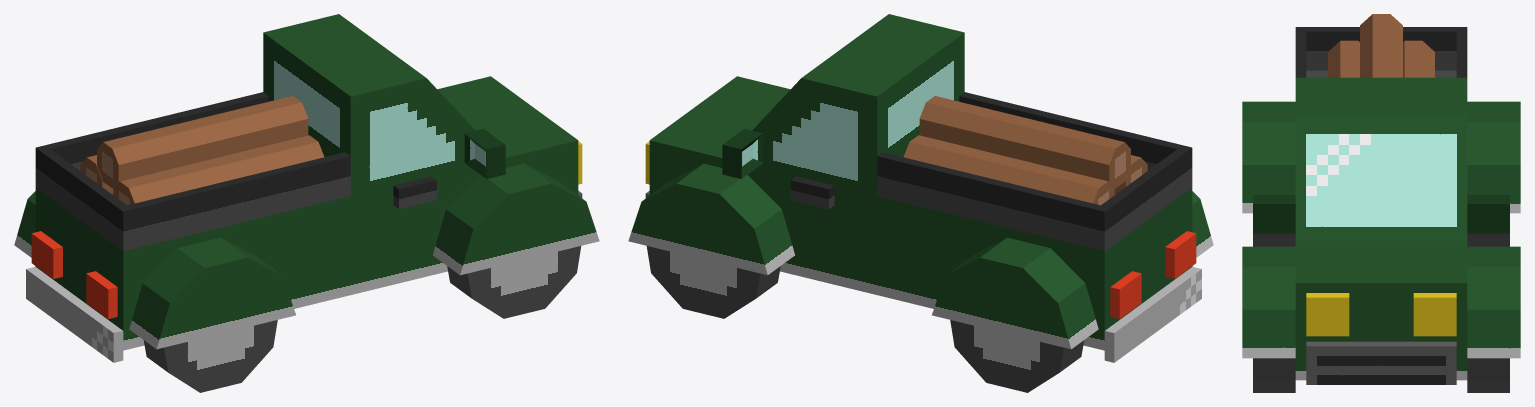
File: Truck.gltf
3 views of the same model, side by side, from view 1: azimuth 30°, elevation 25°; view 2: azimuth 150°, elevation 25°; view 3: azimuth 270°, elevation 25° (orthographic). The views are drawn at different scales.
Parts seen in each view (by area): view 1: cuboid (×9), cylinder (×7); view 2: cuboid (×9), cylinder (×7); view 3: cuboid (×9), cylinder (×11).
Part boxes in pixels (x1,y1,x2,y2): cuboid (×9): [26, 14, 578, 362]; cylinder (×7): [14, 96, 599, 392]; cuboid (×9): [649, 14, 1201, 362]; cylinder (×7): [628, 96, 1213, 392]; cuboid (×9): [1253, 27, 1509, 384]; cylinder (×11): [1242, 14, 1520, 392].
Bounding box in the file's own units: 3.12 × 1.5 × 1.63.
1 material, 1 textured.
